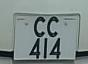1: (41, 38, 50, 60)
4: (27, 38, 43, 61), (48, 38, 63, 60)
C: (45, 14, 61, 39), (32, 14, 47, 39)
